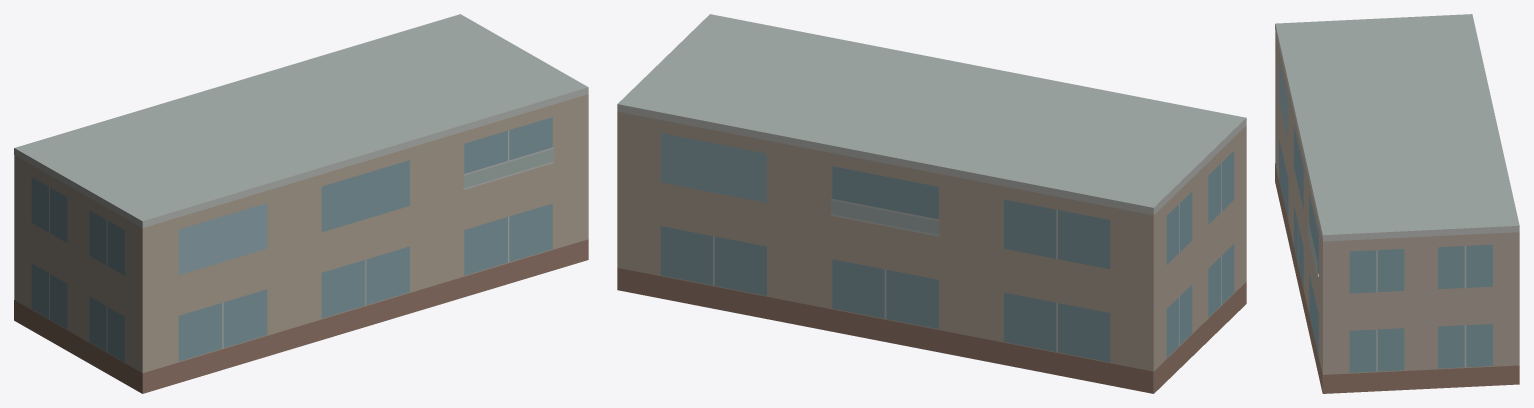
File: survey-upis-32697171.glb
3 renders of one model, left to right at view 1: azimuth 30°, elevation 25°; view 2: azimuth 150°, elevation 25°; view 3: azimuth 270°, elevation 25°, orthographic. The views are drawn at different scales.
Parts seen in each view (by area): view 1: survey-upis-32697171.tmp; view 2: survey-upis-32697171.tmp; view 3: survey-upis-32697171.tmp.
Boxes of the visible parts, left/top/right/bottom form: survey-upis-32697171.tmp: left=14, top=14, right=588, bottom=393; survey-upis-32697171.tmp: left=617, top=14, right=1246, bottom=393; survey-upis-32697171.tmp: left=1275, top=14, right=1519, bottom=393.
Size of the model in its own units: 18.25 by 6.1 by 8.53.
